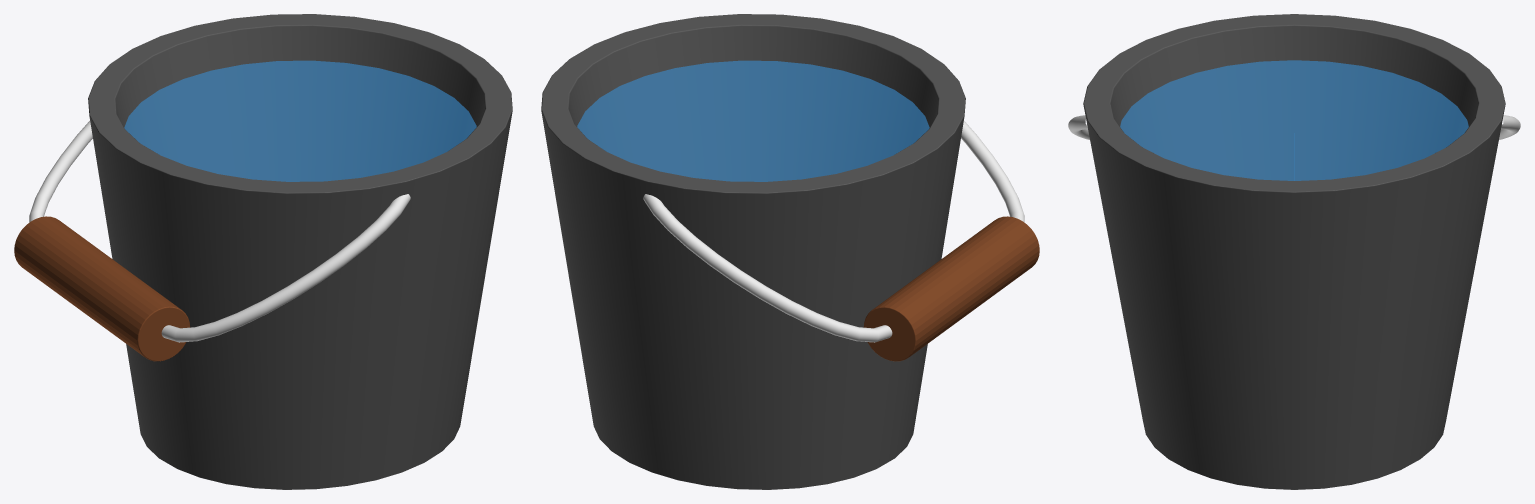
The model's file is Bucket.glb.
3 renders of one model, left to right at view 1: azimuth 30°, elevation 25°; view 2: azimuth 150°, elevation 25°; view 3: azimuth 270°, elevation 25°, orthographic.
Visible parts, largest first — view 1: Bucket, Bucket - Handle; view 2: Bucket, Bucket - Handle; view 3: Bucket, Bucket - Handle.
Boxes of the visible parts, <box> form: Bucket: <box>14,14,512,489</box>; Bucket - Handle: <box>29,121,410,342</box>; Bucket: <box>541,14,1039,489</box>; Bucket - Handle: <box>643,121,1024,342</box>; Bucket: <box>1083,14,1505,489</box>; Bucket - Handle: <box>1068,115,1520,139</box>.
Bounding box in the file's own units: 0.6653 × 0.5 × 0.642.
